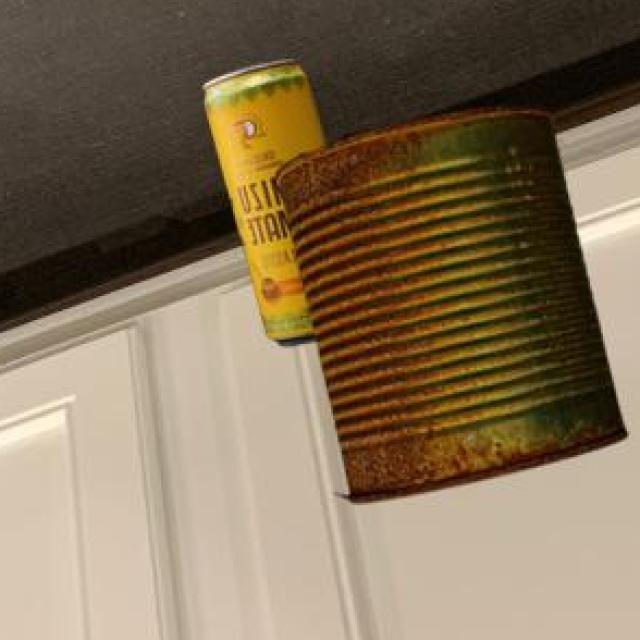logam: (273, 108, 624, 506), (199, 62, 321, 349)
